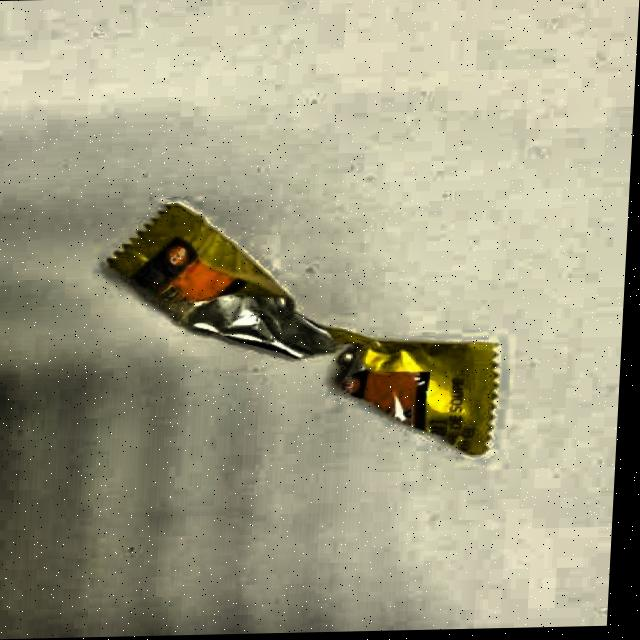paper: (70, 190, 566, 471)
